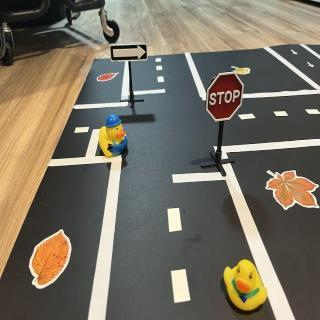duck_regular: (223, 261, 269, 317)
duck_specialty: (100, 115, 128, 157)
sign_oneway_right: (111, 43, 149, 65)
sign_stop: (207, 73, 245, 125)
